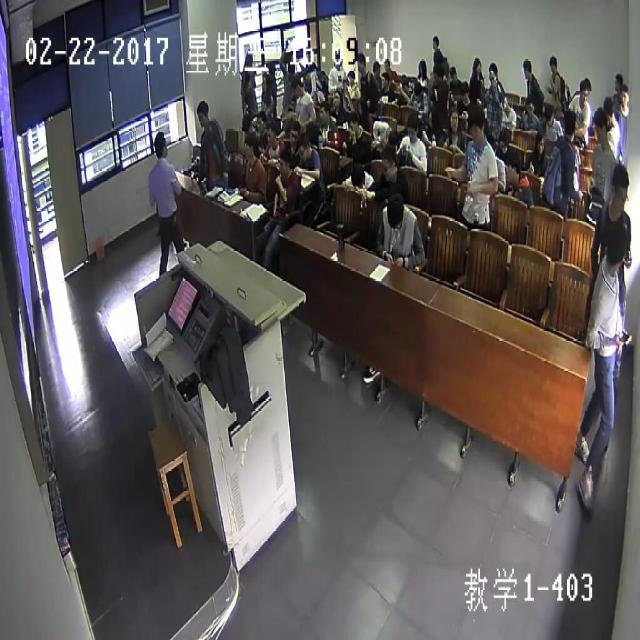person: (605, 220, 630, 276), (609, 164, 629, 214), (590, 106, 608, 148), (467, 108, 485, 144), (560, 104, 577, 140), (504, 151, 521, 186), (386, 192, 402, 229), (349, 158, 365, 192), (380, 146, 396, 180), (194, 96, 210, 128), (242, 132, 257, 162), (275, 148, 291, 176), (600, 94, 614, 125), (344, 110, 359, 138), (405, 115, 420, 141), (153, 130, 166, 159), (498, 126, 510, 156), (297, 133, 310, 160), (446, 106, 460, 131), (542, 102, 556, 127), (288, 73, 302, 97), (521, 53, 533, 81), (288, 120, 300, 146), (577, 80, 589, 106), (534, 129, 545, 157), (240, 46, 255, 66), (317, 98, 329, 123), (426, 107, 438, 132), (282, 59, 295, 82), (239, 111, 251, 133), (304, 119, 316, 141), (387, 128, 399, 150), (486, 62, 497, 86), (266, 117, 276, 143), (240, 70, 252, 91), (355, 96, 366, 118), (524, 94, 535, 116), (547, 54, 558, 76), (620, 83, 630, 107), (355, 51, 366, 72), (258, 74, 269, 94), (433, 64, 445, 82), (255, 111, 265, 132), (460, 80, 470, 101), (330, 86, 341, 105), (614, 70, 623, 93), (370, 56, 380, 76), (378, 69, 388, 89), (417, 56, 427, 76), (501, 96, 511, 116), (264, 59, 274, 78), (399, 75, 409, 94), (304, 44, 314, 62), (471, 58, 481, 76), (303, 68, 313, 84), (413, 81, 421, 100), (333, 52, 341, 70), (346, 70, 355, 86), (358, 74, 366, 90), (448, 64, 457, 78), (382, 57, 390, 71), (431, 35, 438, 49)
